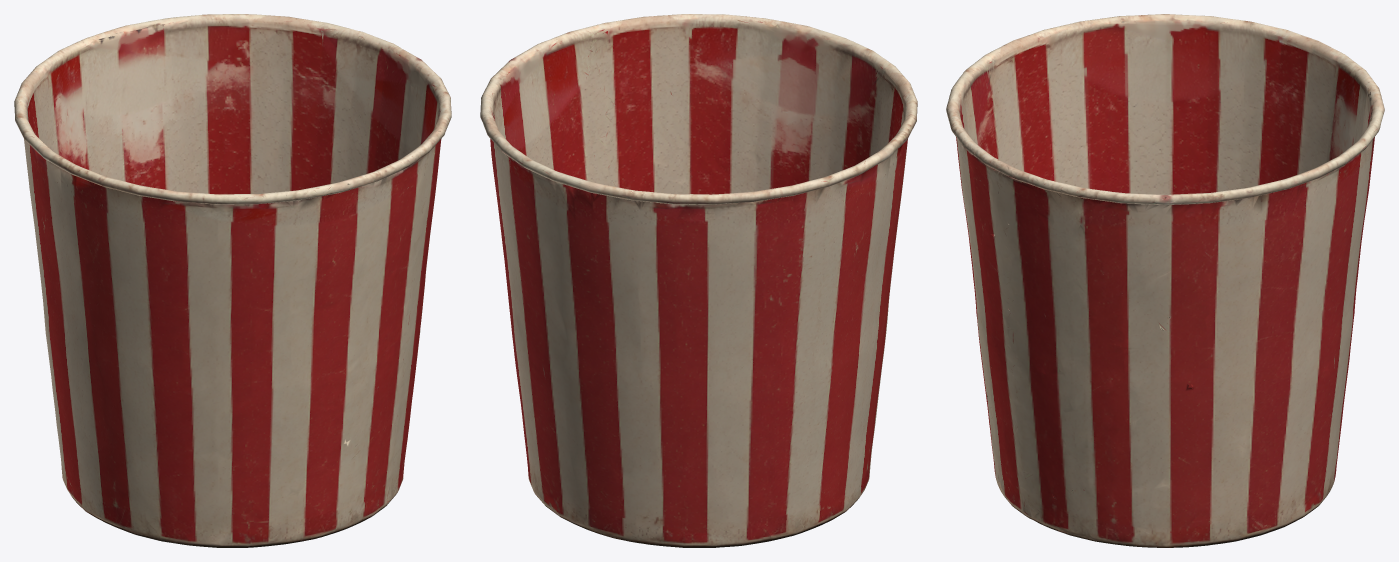
File: Meshy_AI_Popcorn_Bucket_0613214152_texture.fbx
The picture shows the model from 3 angles, left to right: view 1: azimuth 30°, elevation 25°; view 2: azimuth 150°, elevation 25°; view 3: azimuth 270°, elevation 25°; orthographic projection.
Visible parts, largest first — view 1: Mesh_0; view 2: Mesh_0; view 3: Mesh_0.
Boxes of the visible parts, x1,y1,x2,y2 form: Mesh_0: (14, 14, 451, 547); Mesh_0: (480, 14, 917, 547); Mesh_0: (946, 14, 1384, 547).
Size of the model in its own units: 191 by 180 by 191.
1 material, 1 textured.
